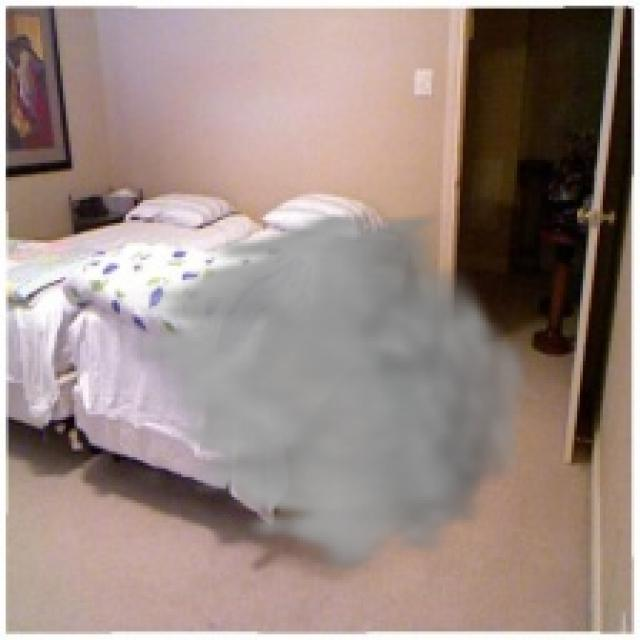smoke: (114, 209, 537, 577)
